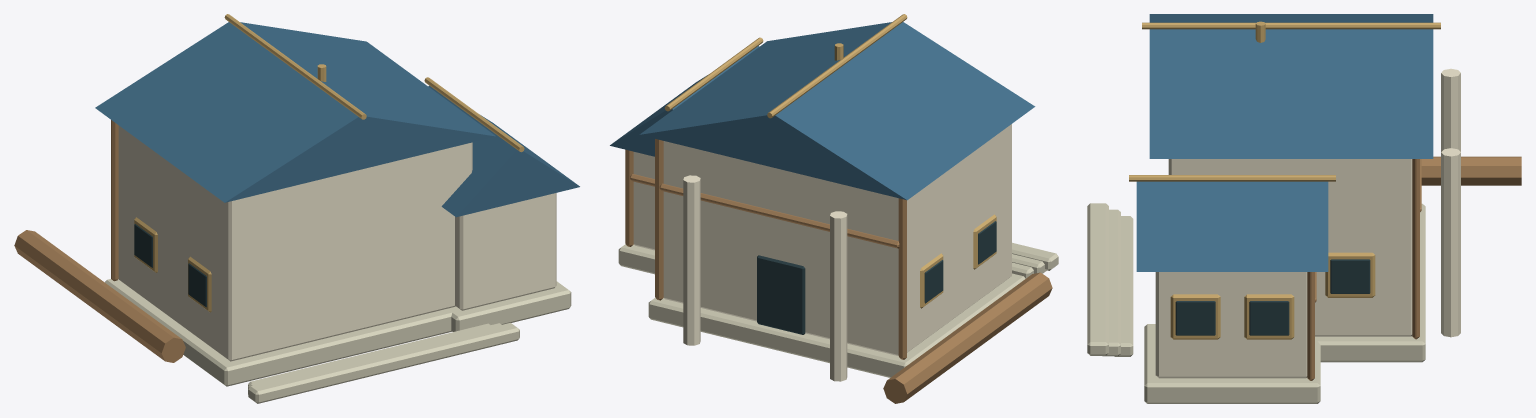
Rendered from level_24.glb.
3 views of the same model, side by side, from view 1: azimuth 30°, elevation 25°; view 2: azimuth 150°, elevation 25°; view 3: azimuth 270°, elevation 25° (orthographic). The views are drawn at different scales.
Parts seen in each view (by area): view 1: timber_yard — level 24; view 2: timber_yard — level 24; view 3: timber_yard — level 24.
Boxes of the visible parts, left/top/right/bottom form: timber_yard — level 24: left=14, top=14, right=579, bottom=403; timber_yard — level 24: left=610, top=14, right=1058, bottom=403; timber_yard — level 24: left=1087, top=14, right=1521, bottom=403.
Bounding box in the file's own units: 6.43 × 3.97 × 5.66.
